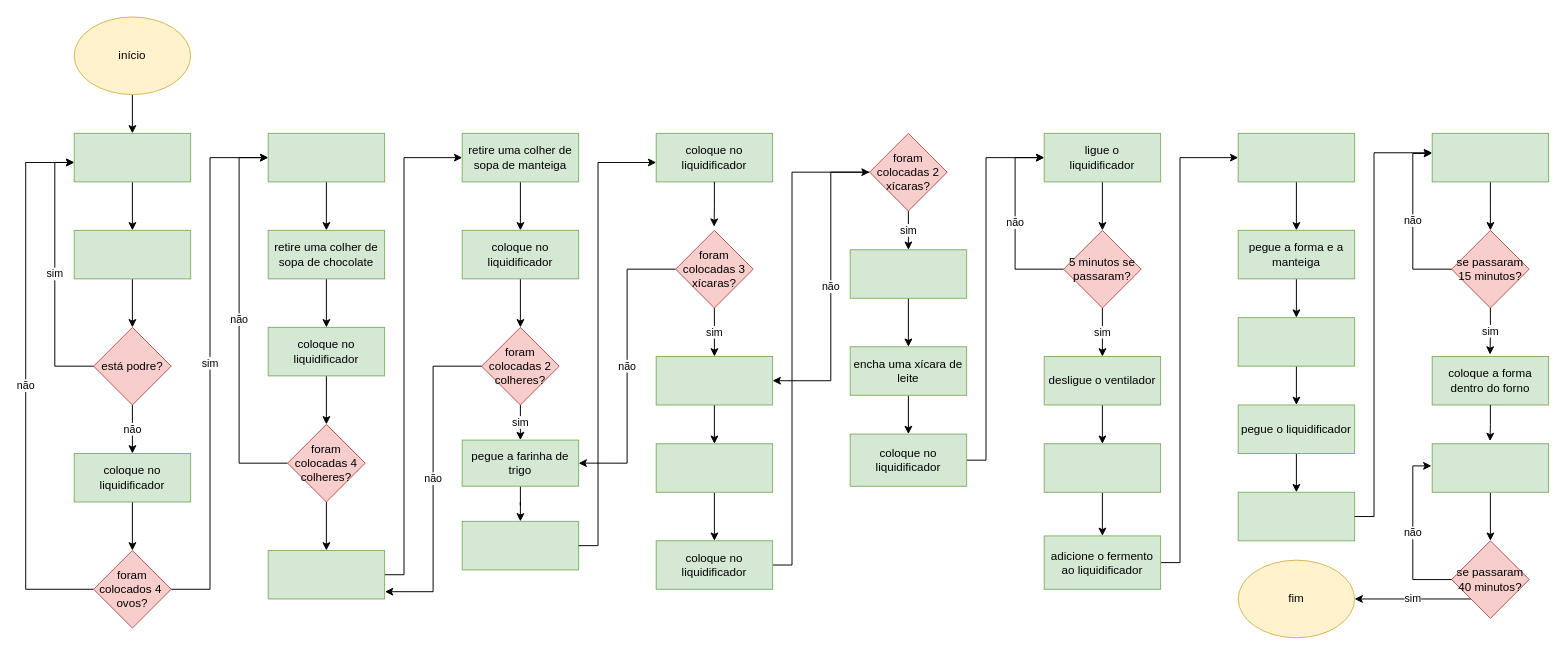
This 1566x655 diagram has some shape labels left out. Each missing label, with the centre of its shape:
"despeje o conteúdo do liquidificador na forma" belongs at point 1296,516.
"espere" belongs at point 1490,467.
"ligue o forno a 180ºC" belongs at point 1490,157.
"misture com uma espátula delicadamente" belongs at point 1296,157.
"pegue 1 ovo" belongs at point 132,157.
"pegue a manteiga" belongs at point 326,574.
"pegue o açúcar" belongs at point 714,380.
"pegue o chocolate em pó" belongs at point 326,157.
"pegue o fermento" belongs at point 1102,467.
"pegue o leite" belongs at point 908,273.
"quebre o ovo" belongs at point 132,254.
"retire uma xícara da farinha" belongs at point 520,545.
"retire uma xícara de açúcar" belongs at point 714,467.
"unte a forma" belongs at point 1296,341.
